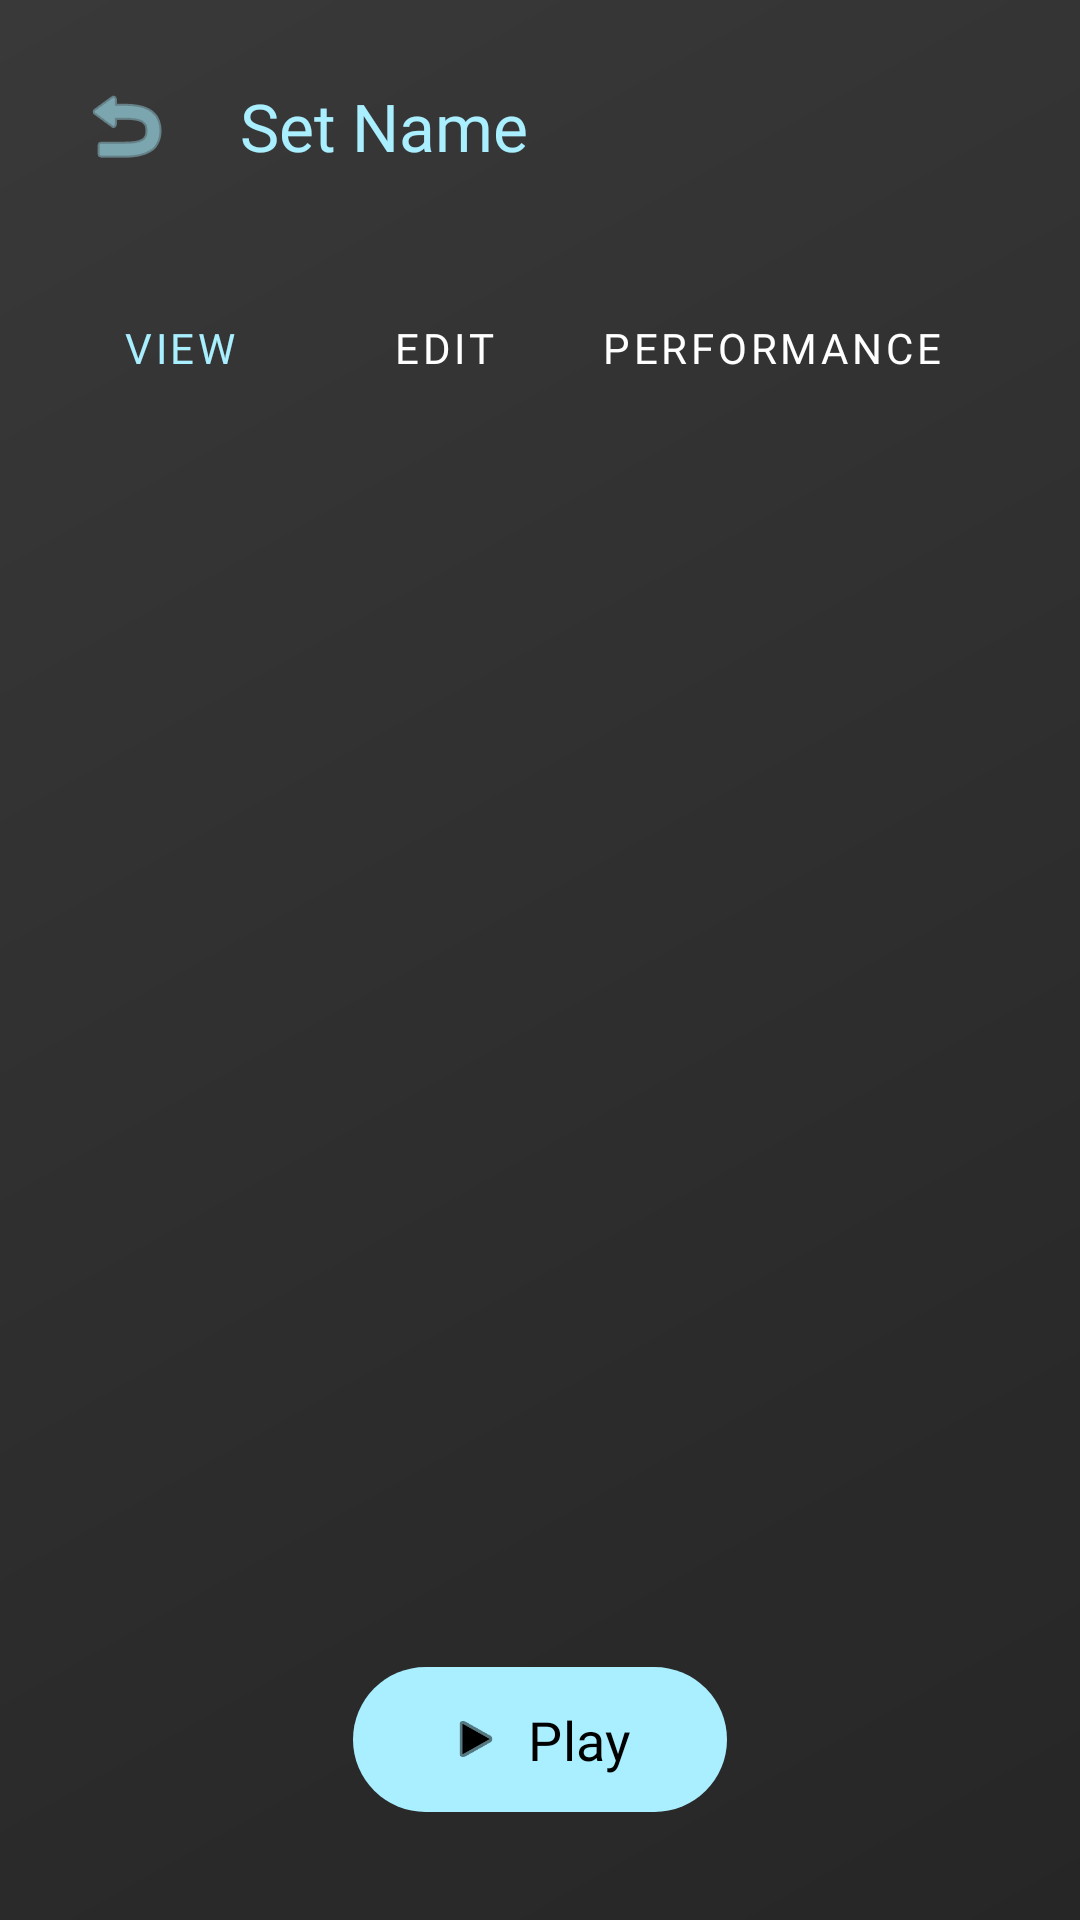

Named icons in this screenshot (1080x1920) and their bounding boxes, [x1, y1, x2, y2]:
Back: [93, 95, 162, 158]
